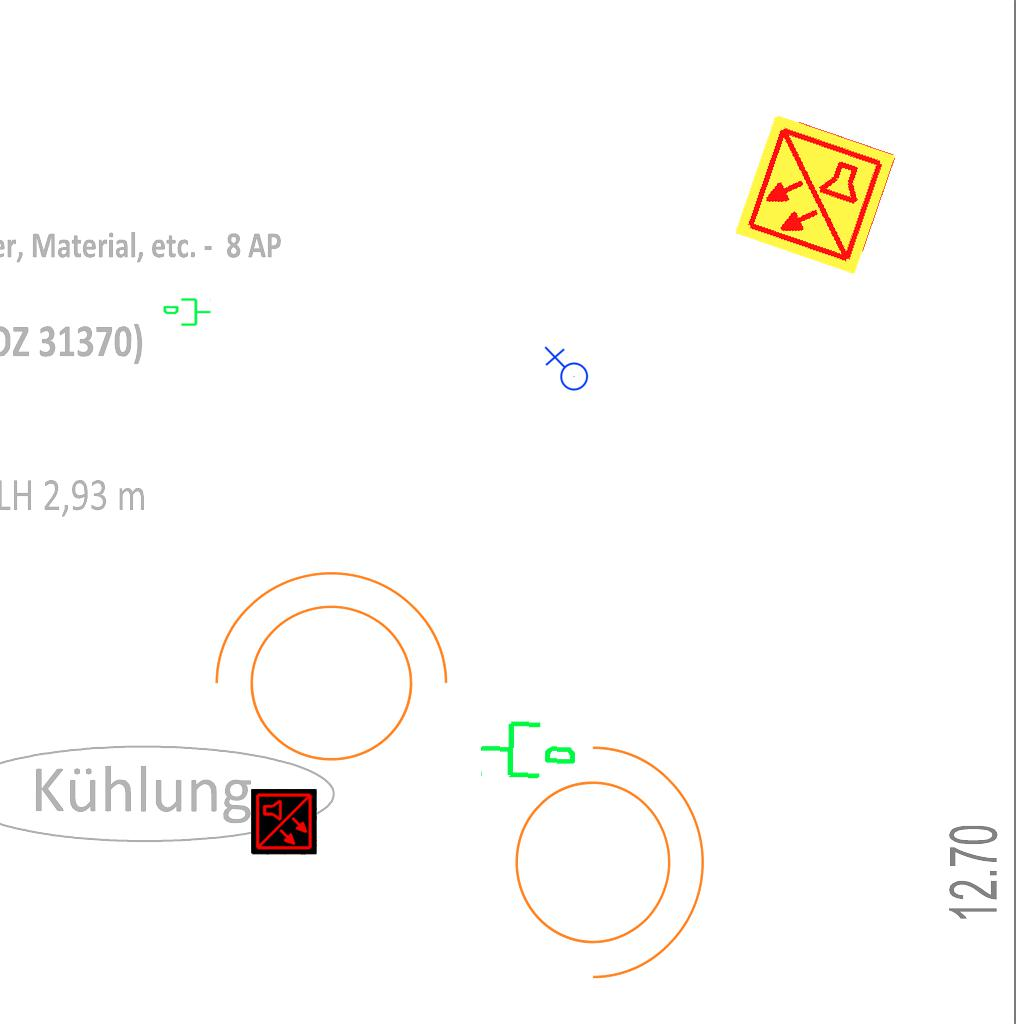Datenanschluss_einfach: (477, 711, 580, 785), (162, 296, 212, 330)
Elektroanschluss_allgemein_230V_Geraeteanschlussdose_230V: (542, 346, 589, 395)
OKW_Multisensormelder_(Kombination_optischer_Rauch-Kahlenmonoxid_Waerme-Melder): (731, 110, 899, 278), (251, 789, 317, 855)
Scheinwerfer_fuer_Alarmbeleuchtung: (193, 561, 457, 786), (490, 724, 715, 988)
